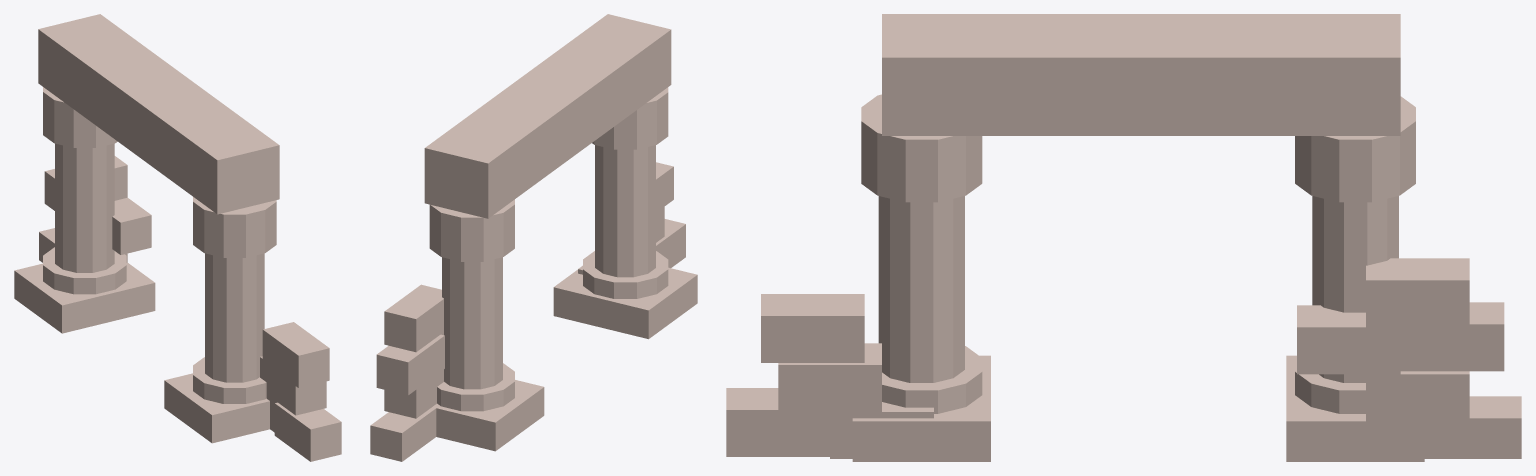
File: gate_border.gltf
The picture shows the model from 3 angles, left to right: view 1: azimuth 30°, elevation 25°; view 2: azimuth 150°, elevation 25°; view 3: azimuth 270°, elevation 25°; orthographic projection. The views are drawn at different scales.
Visible parts, largest first — view 1: gate_border; view 2: gate_border; view 3: gate_border.
Boxes of the visible parts, <box> form: gate_border: <box>14,14,341,461</box>; gate_border: <box>370,14,697,461</box>; gate_border: <box>726,14,1521,461</box>.
Size of the model in its own units: 0.5625 by 1.57 by 2.88.
1 material, 1 textured.
